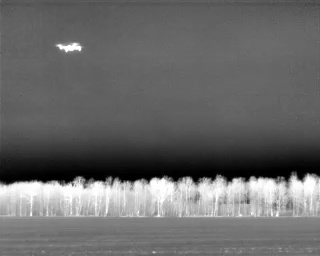DRONE: (51, 37, 87, 58)
